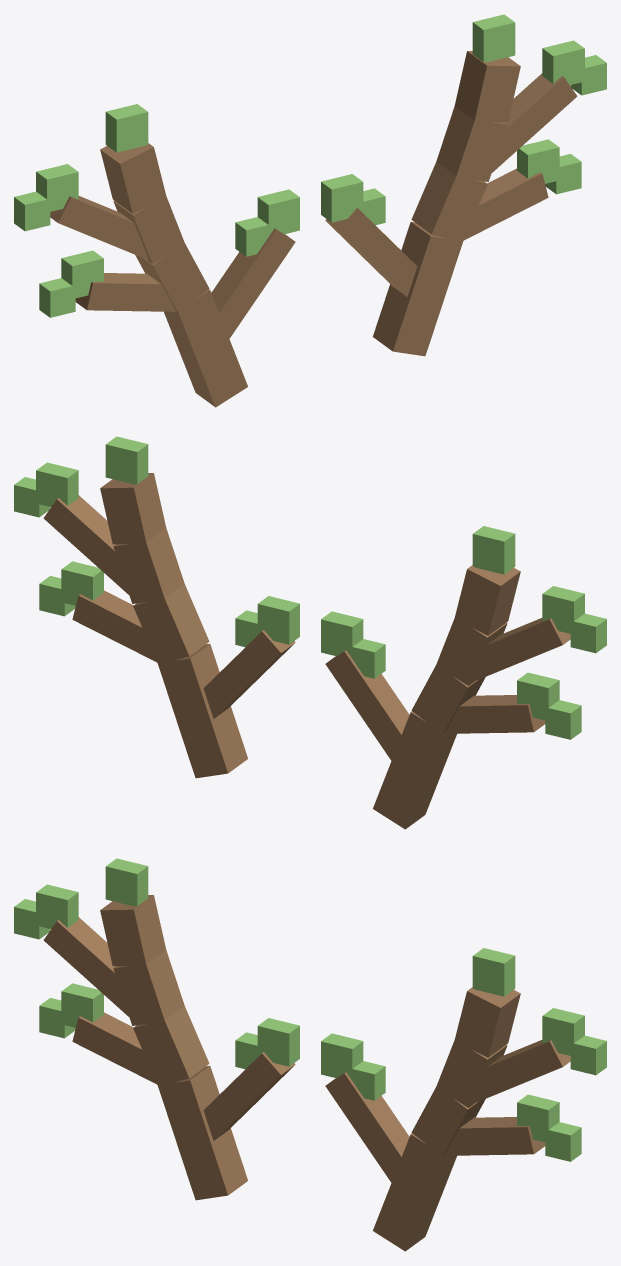
Rendered from chifres_cervo.glb.
3 renders of one model, top to bottom at view 1: azimuth 30°, elevation 25°; view 2: azimuth 150°, elevation 25°; view 3: azimuth 330°, elevation 25°, orthographic.
Visible parts, largest first — view 1: chifres_cervo; view 2: chifres_cervo; view 3: chifres_cervo.
Part boxes in pixels (left/top/right/bottom): chifres_cervo: left=14, top=14, right=606, bottom=407; chifres_cervo: left=14, top=436, right=606, bottom=829; chifres_cervo: left=14, top=858, right=606, bottom=1251.
Size of the model in its own units: 0.92 by 0.4647 by 0.055.
